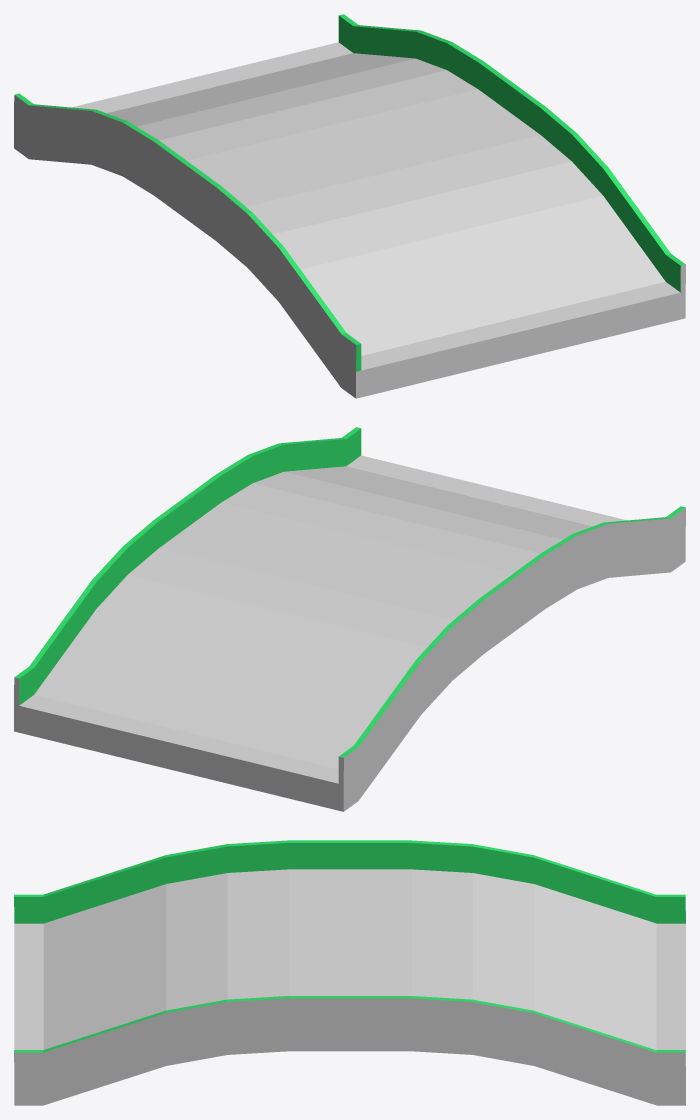
The picture shows the model from 3 angles, top to bottom: view 1: azimuth 30°, elevation 25°; view 2: azimuth 150°, elevation 25°; view 3: azimuth 270°, elevation 25°; orthographic projection.
Parts seen in each view (by area): view 1: Cube.007, Cube.016, Cube.015, Cube.017, Cube.018; view 2: Cube.007, Cube.016, Cube.017, Cube.018, Cube.015; view 3: Cube.007, Cube.016, Cube.017, Cube.015, Cube.018.
Part boxes in pixels (left/top/right/bottom): Cube.007: left=14, top=14, right=685, bottom=398; Cube.016: left=153, top=61, right=545, bottom=240; Cube.015: left=500, top=167, right=670, bottom=306; Cube.017: left=29, top=92, right=255, bottom=164; Cube.018: left=313, top=30, right=451, bottom=95; Cube.007: left=14, top=427, right=685, bottom=811; Cube.016: left=154, top=474, right=546, bottom=653; Cube.017: left=194, top=648, right=421, bottom=800; Cube.018: left=92, top=546, right=230, bottom=633; Cube.015: left=280, top=438, right=448, bottom=496; Cube.007: left=14, top=840, right=685, bottom=1105; Cube.016: left=288, top=840, right=411, bottom=1051; Cube.017: left=533, top=855, right=656, bottom=999; Cube.015: left=43, top=988, right=166, bottom=1105; Cube.018: left=472, top=976, right=534, bottom=1065.
Bounding box in the file's own units: 12.8 × 4.05 × 23.02.
